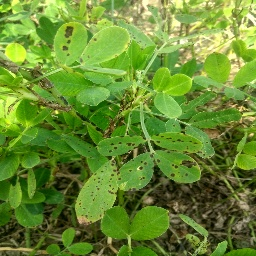GroundNut_Leaf: (75, 159, 117, 227), (83, 25, 131, 75), (153, 66, 193, 119), (53, 21, 88, 68), (155, 150, 201, 184), (131, 205, 171, 241), (98, 134, 147, 153), (204, 51, 231, 83), (154, 131, 201, 149), (15, 97, 38, 128), (77, 88, 112, 107), (8, 177, 24, 209), (27, 169, 38, 199)
